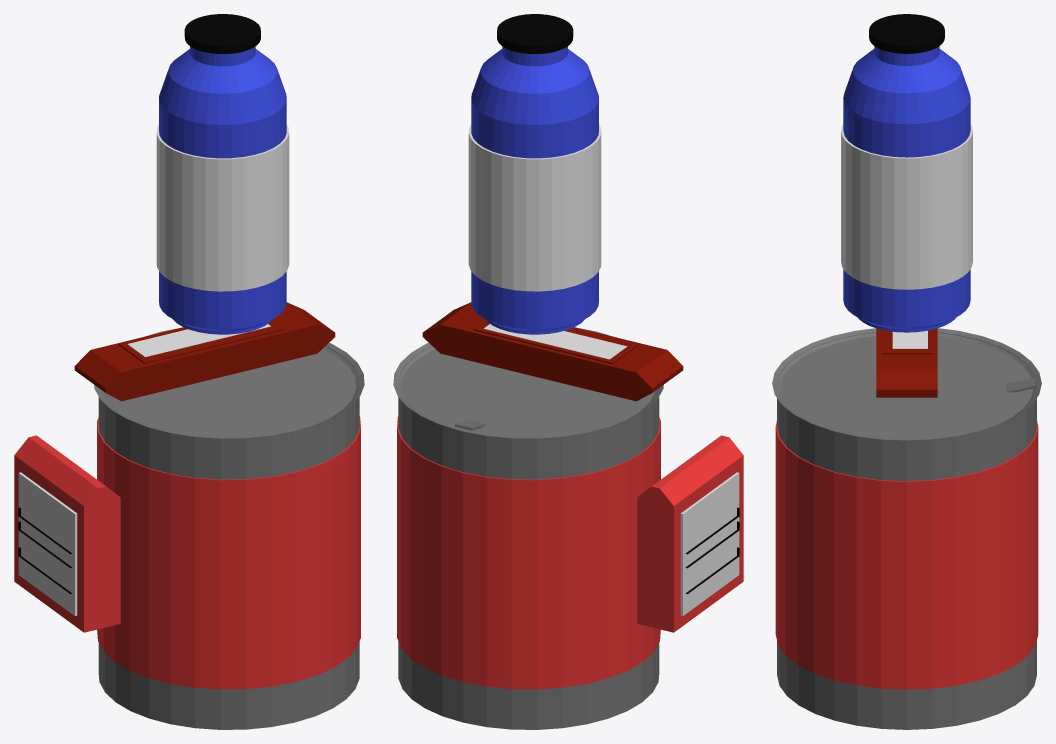
Rendered from low poly foods.fbx.
3 renders of one model, left to right at view 1: azimuth 30°, elevation 25°; view 2: azimuth 150°, elevation 25°; view 3: azimuth 270°, elevation 25°, orthographic.
Visible parts, largest first — view 1: Cylinder.001, Cylinder, Cube.001, Cube; view 2: Cylinder.001, Cylinder, Cube.001, Cube; view 3: Cylinder.001, Cylinder, Cube.
Boxes of the visible parts, x1=… form: Cylinder.001: x1=94, y1=328, x2=364, y2=729; Cylinder: x1=156, y1=14, x2=289, y2=334; Cube.001: x1=14, y1=435, x2=120, y2=632; Cube: x1=74, y1=302, x2=335, y2=401; Cylinder.001: x1=393, y1=328, x2=663, y2=729; Cylinder: x1=468, y1=14, x2=601, y2=334; Cube.001: x1=637, y1=435, x2=743, y2=632; Cube: x1=422, y1=302, x2=683, y2=401; Cylinder.001: x1=772, y1=328, x2=1041, y2=729; Cylinder: x1=841, y1=14, x2=972, y2=332; Cube: x1=876, y1=328, x2=937, y2=397.
Bounding box in the file's own units: 112 × 230 × 87.49.
